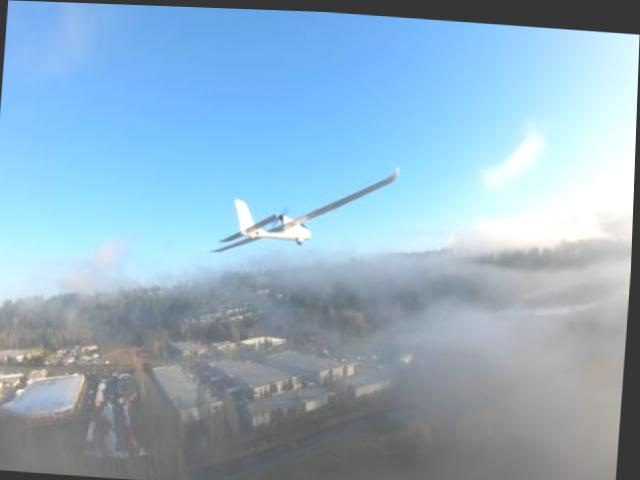uav: (199, 147, 411, 275)
